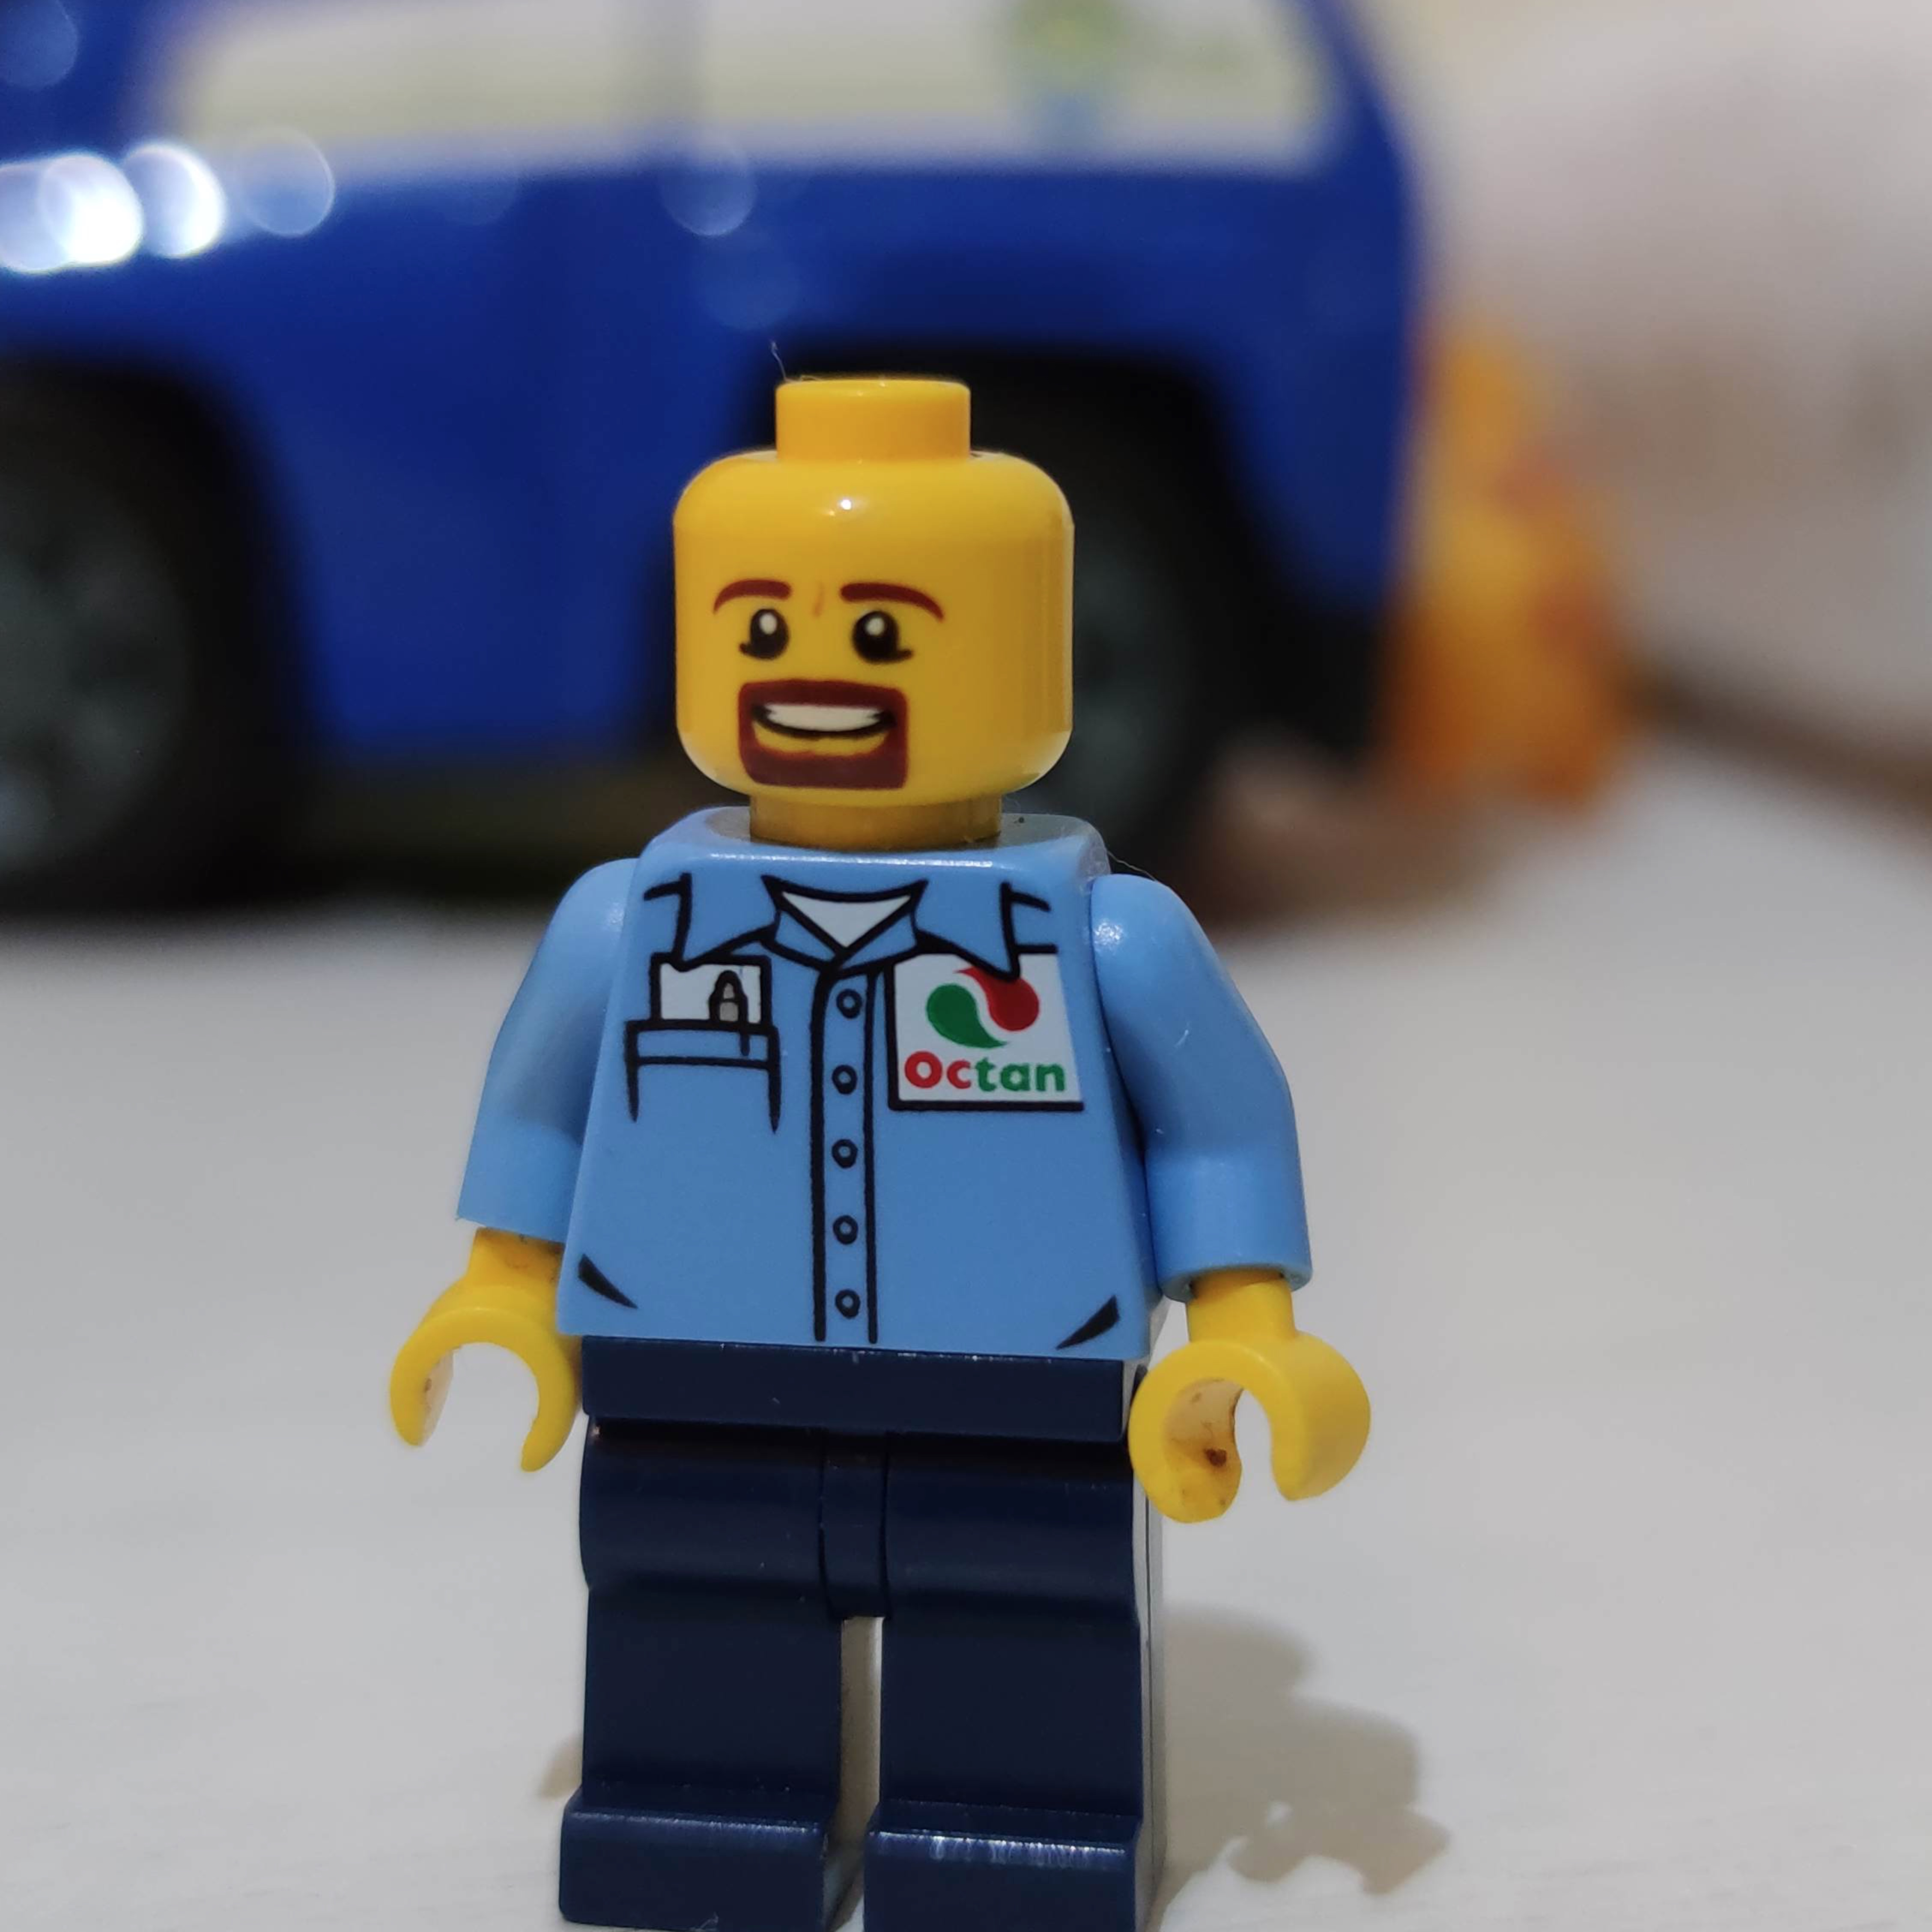lego: (389, 377, 1369, 1932)
